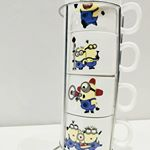cups: (61, 72, 137, 119), (64, 30, 140, 74), (57, 1, 146, 31)
